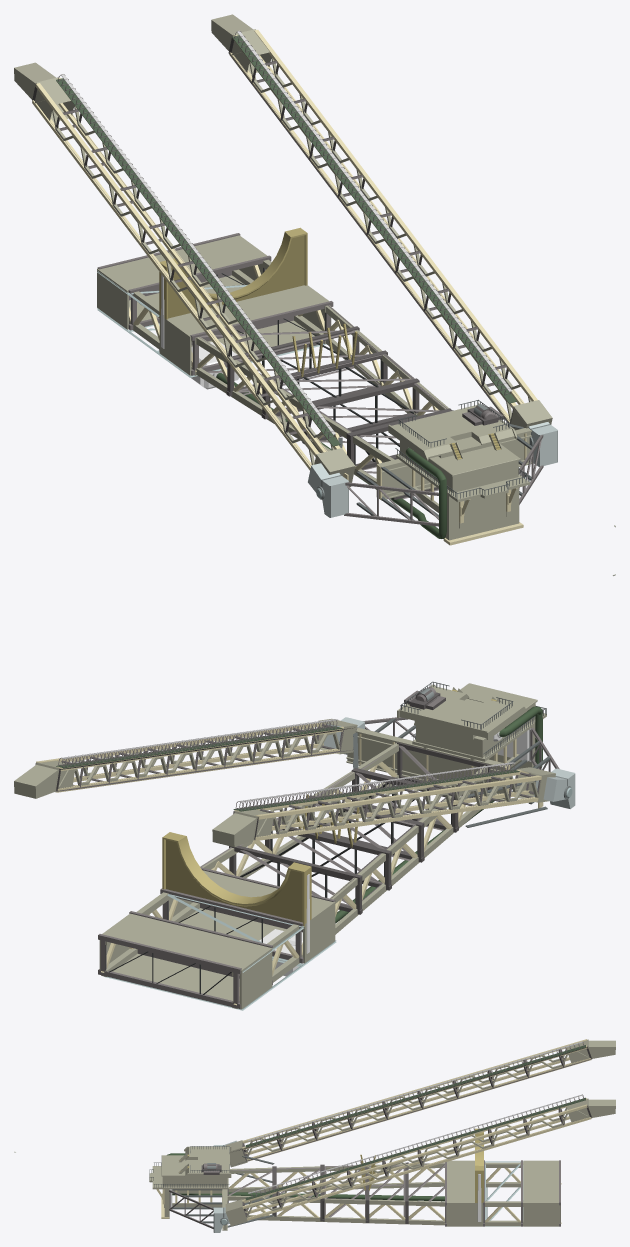
The model's file is launch_site2.glb.
3 renders of one model, top to bottom at view 1: azimuth 30°, elevation 25°; view 2: azimuth 150°, elevation 25°; view 3: azimuth 270°, elevation 25°, orthographic. The views are drawn at different scales.
Visible parts, largest first — view 1: object 88, object 86, Plane.162, object 73, object 45, object 16, object 87, object 74, object 28, object 30, object 21, object 75 (+12 smaller); view 2: object 86, object 88, object 73, object 21, object 16, object 45, object 87, object 74, object 30, object 8, object 43, object 42 (+15 smaller); view 3: object 88, object 86, object 73, Plane.162, object 87, object 45, object 49, object 48, object 30, object 74, object 28, Cylinder.040 (+13 smaller).
Boxes of the visible parts, x1,y1,x2,y2 form: object 88: (32,29,537,470); object 86: (14,14,552,486); Plane.162: (56,35,516,446); object 73: (97,235,267,329); object 45: (159,285,331,375); object 16: (226,326,452,499); object 87: (32,36,522,465); object 74: (388,403,517,460); object 28: (61,30,511,434); object 30: (58,31,511,438); object 21: (97,233,333,375); object 75: (445,487,519,540); object 86: (14,718,555,847); object 88: (36,722,541,840); object 73: (99,913,272,1009); object 21: (98,867,335,1008); object 16: (229,742,492,914); object 45: (169,870,335,963); object 87: (35,724,540,839); object 74: (397,684,526,739); object 30: (58,719,514,810); object 8: (346,727,508,800); object 43: (166,840,302,922); object 42: (162,832,311,927); object 88: (242,1039,591,1220); object 86: (225,1039,615,1226); object 73: (523,1160,560,1226); Plane.162: (245,1045,585,1200); object 87: (233,1046,591,1216); object 45: (446,1160,483,1226); object 49: (228,1181,444,1225); object 48: (227,1163,444,1206); object 30: (251,1041,584,1197); object 74: (184,1146,231,1177); object 28: (248,1041,582,1193); Cylinder.040: (167,1153,444,1201).
Size of the model in its own units: 5.23 by 5.21 by 18.86.
